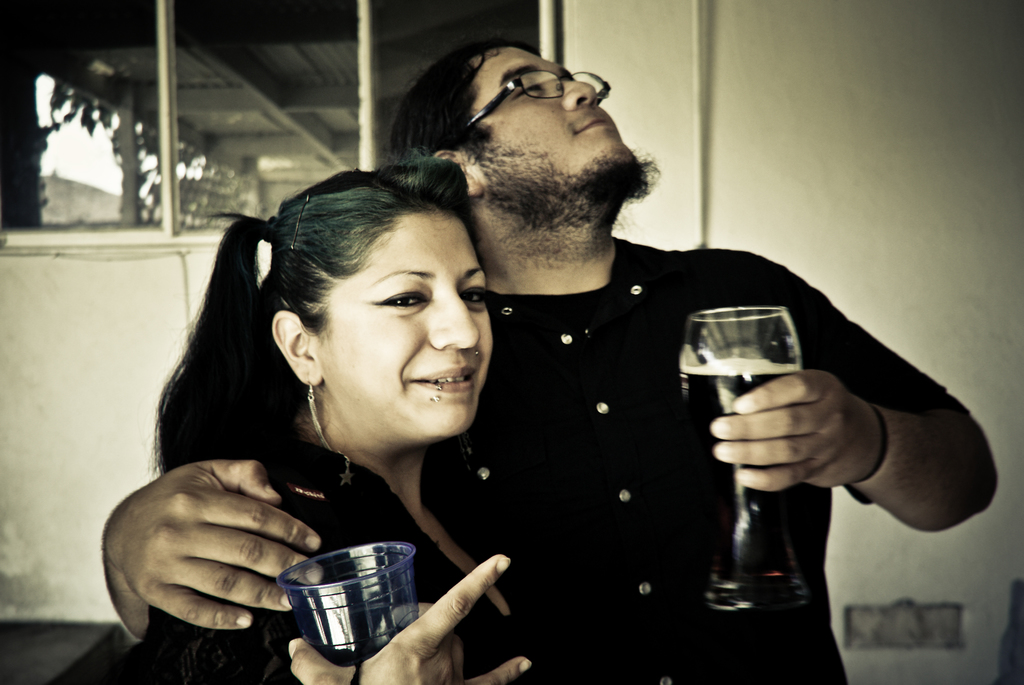Beer: (681, 292, 817, 608), (297, 537, 426, 660)
